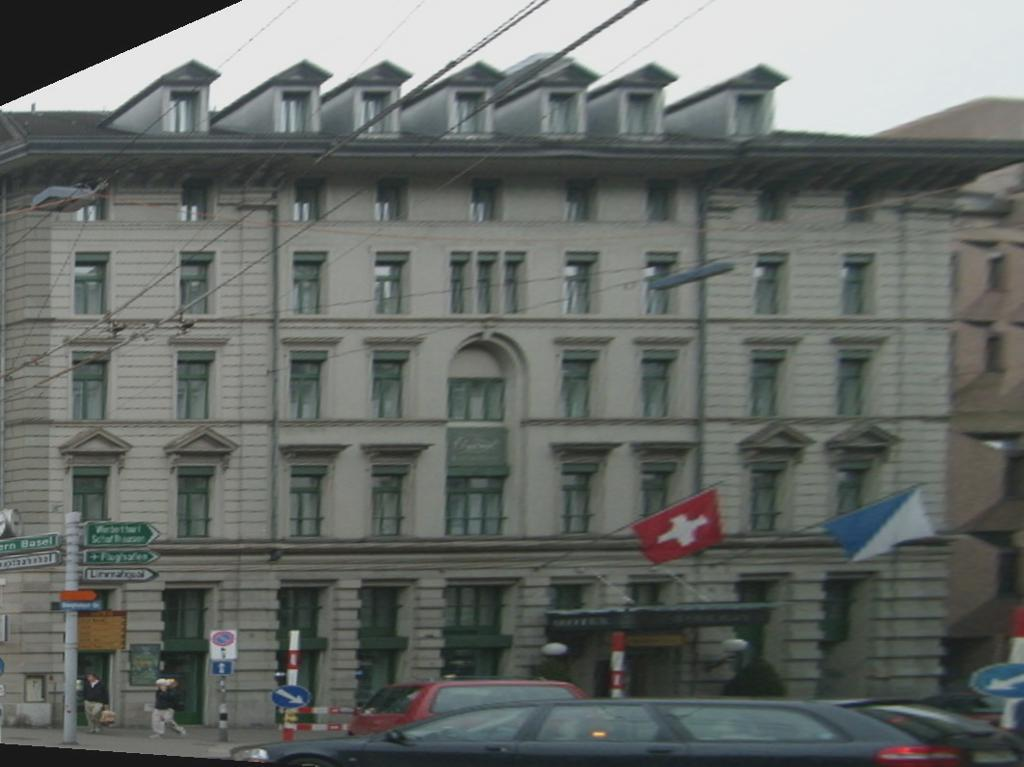window: (446, 477, 507, 538), (446, 587, 515, 636), (640, 463, 679, 537), (178, 467, 217, 540), (73, 467, 112, 540), (289, 467, 328, 540), (372, 466, 411, 539), (561, 463, 600, 536), (749, 463, 788, 536), (835, 461, 874, 534), (449, 378, 507, 425), (162, 589, 213, 640), (643, 349, 680, 419), (72, 352, 109, 421), (179, 352, 216, 421), (291, 352, 328, 421), (374, 351, 411, 420), (562, 351, 599, 420), (752, 350, 789, 419), (838, 351, 875, 420), (279, 587, 330, 637), (359, 587, 410, 637), (822, 578, 873, 628), (180, 252, 218, 316), (840, 254, 878, 318), (755, 253, 793, 316), (75, 252, 112, 316), (376, 251, 413, 315), (565, 252, 602, 316), (644, 253, 681, 317), (293, 251, 330, 314), (740, 581, 786, 631), (630, 584, 675, 632), (554, 585, 595, 631), (76, 177, 110, 223), (295, 178, 329, 224), (375, 177, 409, 223), (566, 177, 600, 223), (644, 177, 678, 223), (183, 176, 216, 222), (472, 176, 505, 222), (478, 252, 501, 316), (505, 252, 528, 315), (451, 252, 473, 315), (548, 92, 580, 134), (626, 94, 657, 137), (736, 96, 767, 139), (170, 92, 201, 134), (281, 92, 312, 134), (362, 92, 393, 134), (455, 92, 486, 134), (760, 180, 787, 222), (845, 180, 872, 222)
